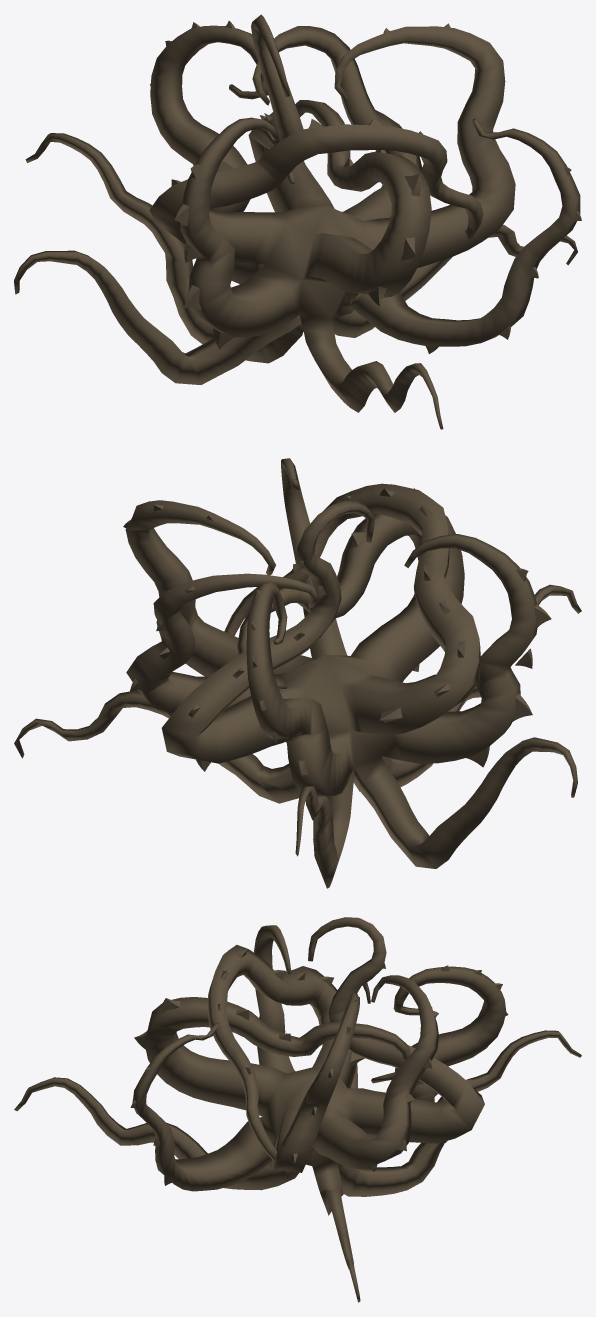
The model's file is SpikyBush01.fbx.
3 views of the same model, one above another, from view 1: azimuth 30°, elevation 25°; view 2: azimuth 150°, elevation 25°; view 3: azimuth 270°, elevation 25° (orthographic). The views are drawn at different scales.
Visible parts, largest first — view 1: SpikyBush01_LOD0; view 2: SpikyBush01_LOD0; view 3: SpikyBush01_LOD0.
Part boxes in pixels (x1,y1,x2,y2): SpikyBush01_LOD0: (14, 14, 581, 429); SpikyBush01_LOD0: (14, 458, 581, 888); SpikyBush01_LOD0: (14, 917, 581, 1302).
Size of what is drawn, in the model's own units: 55 by 32.77 by 59.32.
